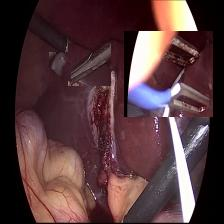Bipolar: (124, 31, 213, 118)
Grasper: (68, 43, 111, 86)
Specimen Bag: (49, 52, 71, 81)
